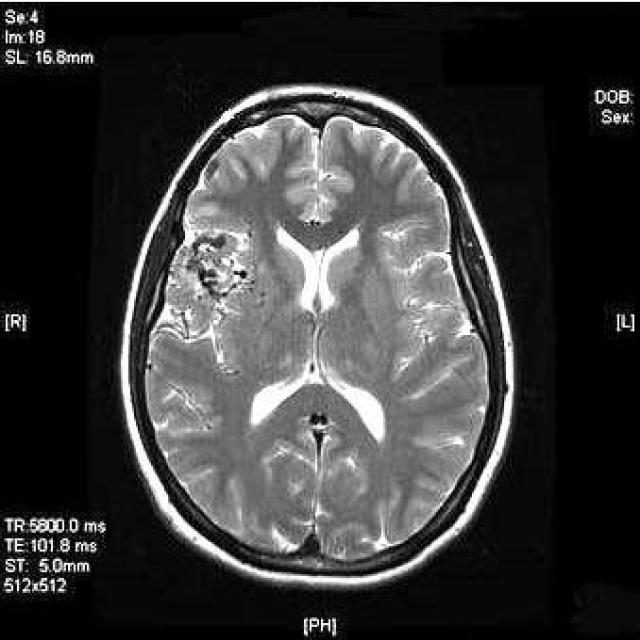notumor: (123, 87, 517, 593)
